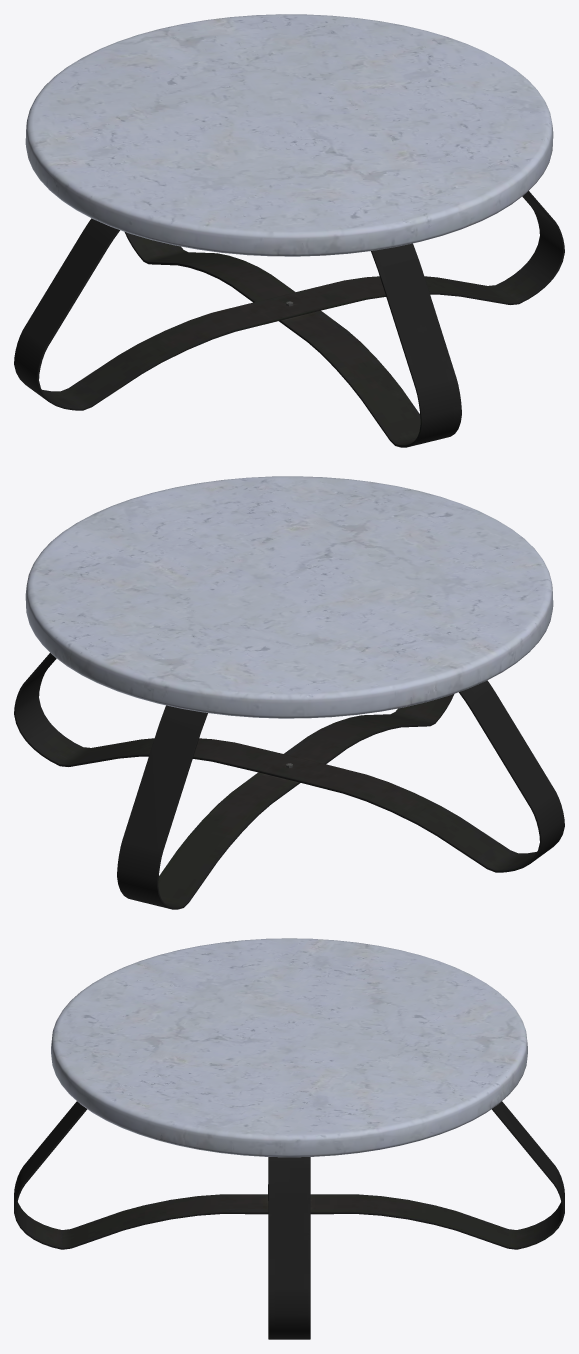
File: coffee-table-round.glb
3 views of the same model, one above another, from view 1: azimuth 30°, elevation 25°; view 2: azimuth 150°, elevation 25°; view 3: azimuth 270°, elevation 25° (orthographic). The views are drawn at different scales.
Visible parts, largest first — view 1: coffee_table_round_01; view 2: coffee_table_round_01; view 3: coffee_table_round_01.
Part boxes in pixels (x1,y1,x2,y2): coffee_table_round_01: (14,14,564,447); coffee_table_round_01: (14,476,564,909); coffee_table_round_01: (14,938,564,1339).
Bounding box in the file's own units: 1.2 × 0.4901 × 1.2.
Materials: 1 (1 with a texture image).
